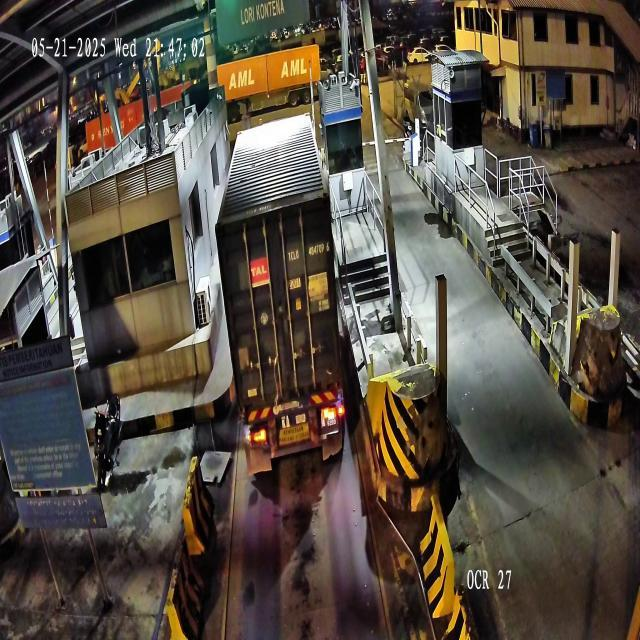ISO: (288, 276, 301, 290)
container_number: (288, 240, 330, 264)
